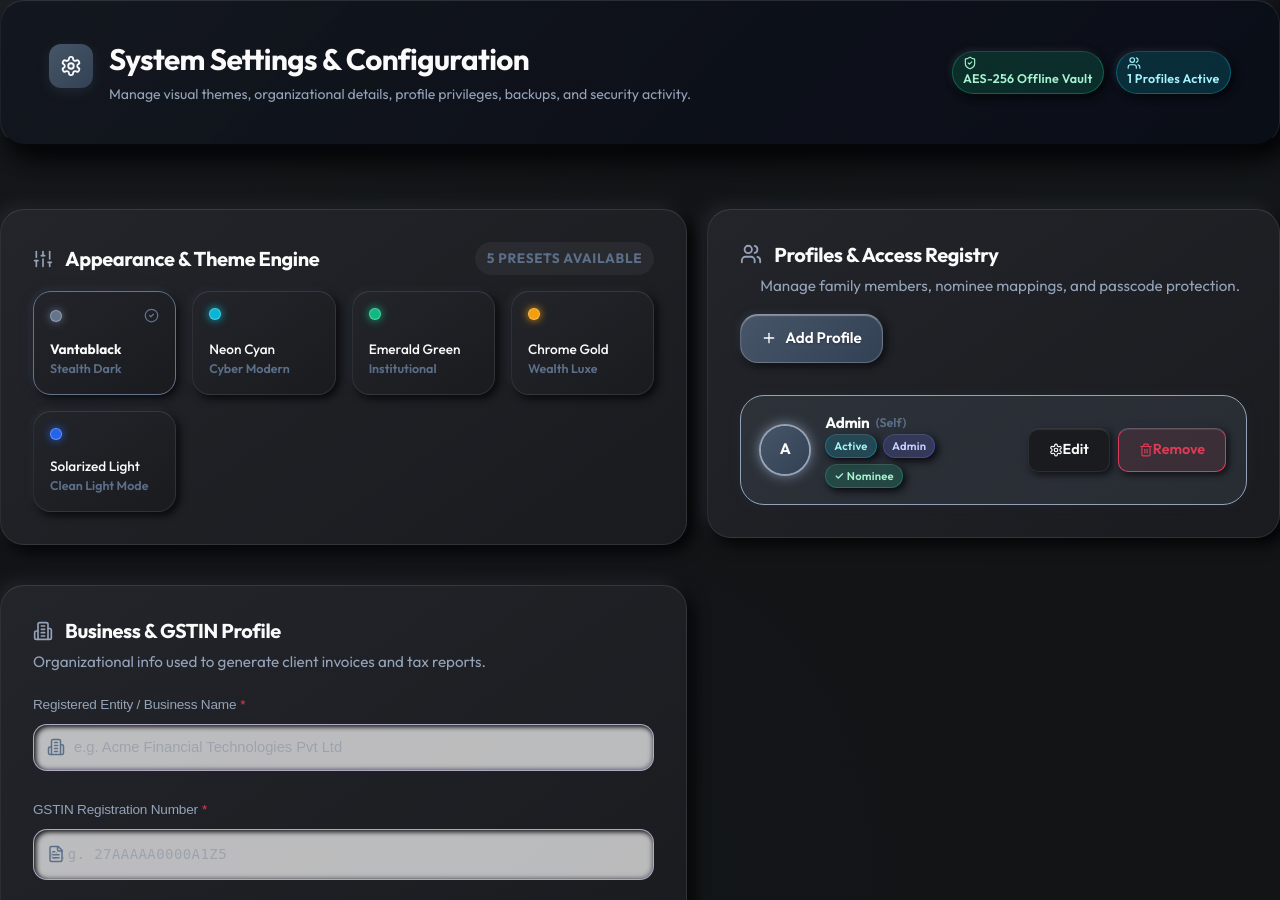
Test: SettingsView profile controls › opens the protected-delete message for the only admin profile
The width and height of the screenshot is (1280, 900).
Click the button titled "Delete Profile".
click(1172, 450)  # box [1118,428,1226,472]
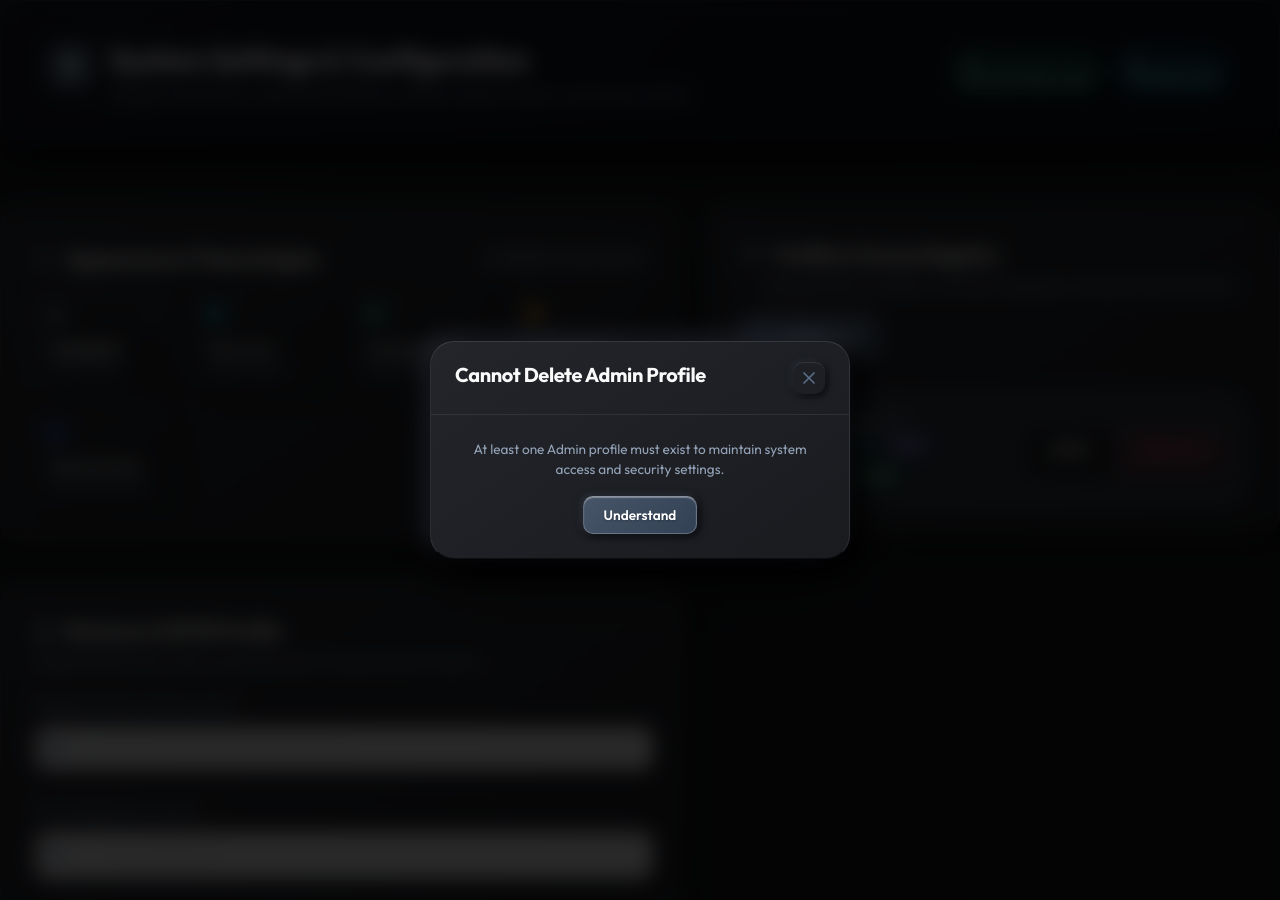
Expected: the heading "Cannot Delete Admin Profile" is shown, [455,362,706,387]
